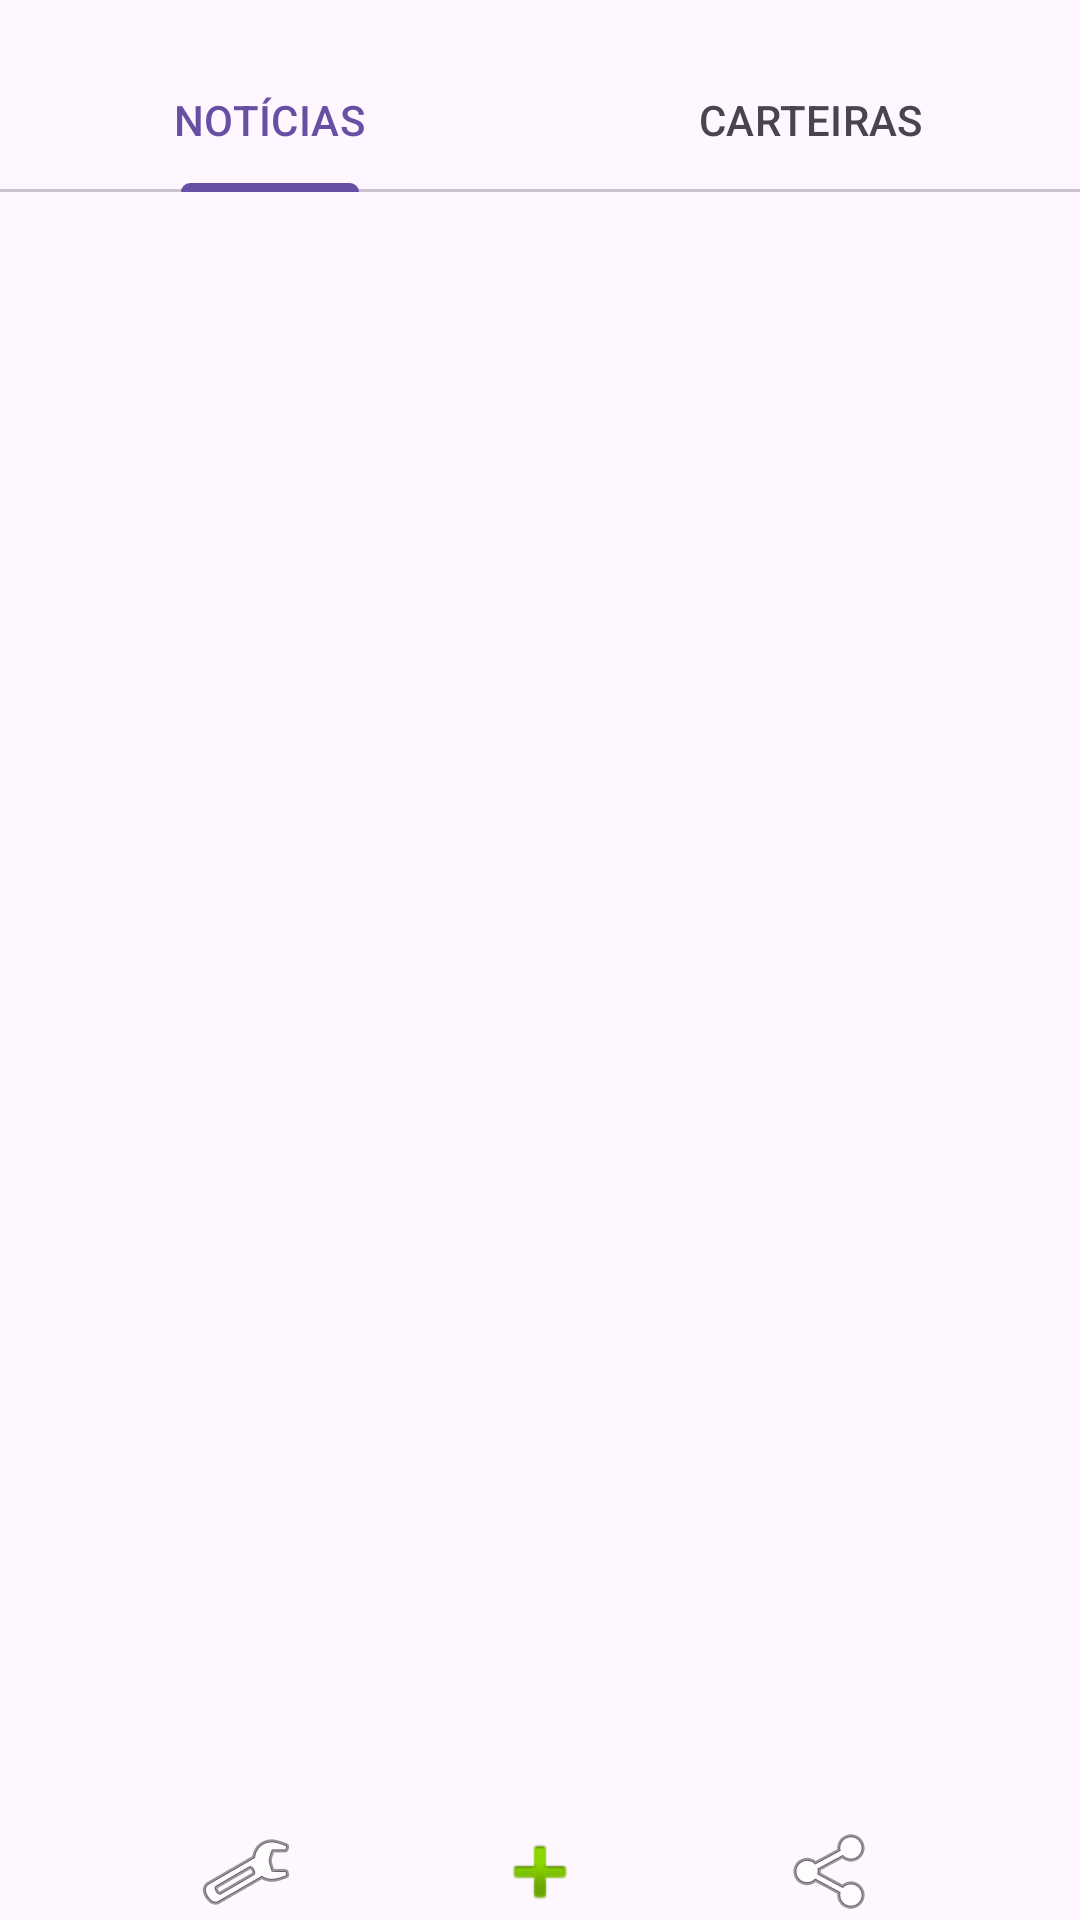

Where to tap for icons on this 1080 x 1920 app screen, as point (x, y):
Adicionar nova carteira: point (540, 1872)
Compartilhar carteira: point (829, 1871)
Configurações: point (246, 1872)
